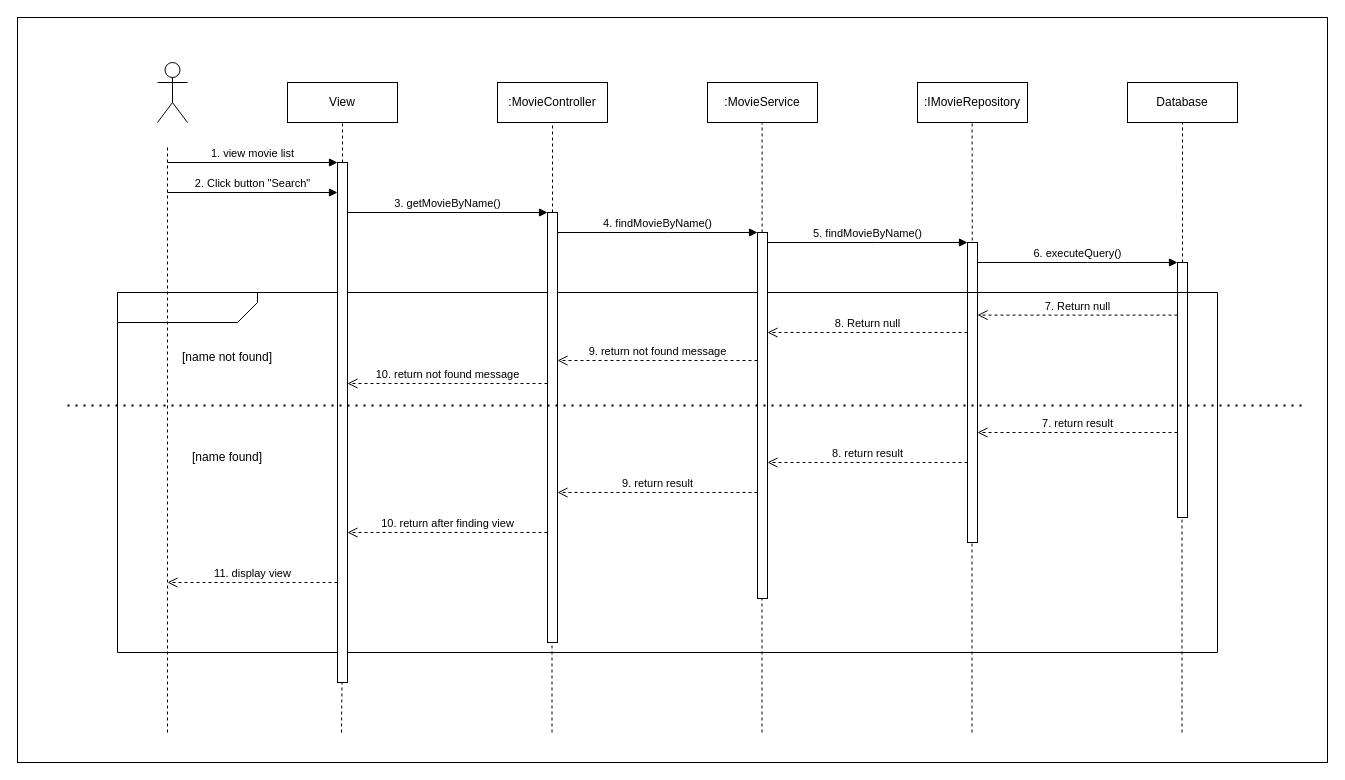
The diagram is 1345 pixels wide and 780 high, and some of its shapes have lost their labels. The centre of each missing label's shape, as x and y in pixels:
alt find movie by name: the point at 187,307
Employee: the point at 172,92
